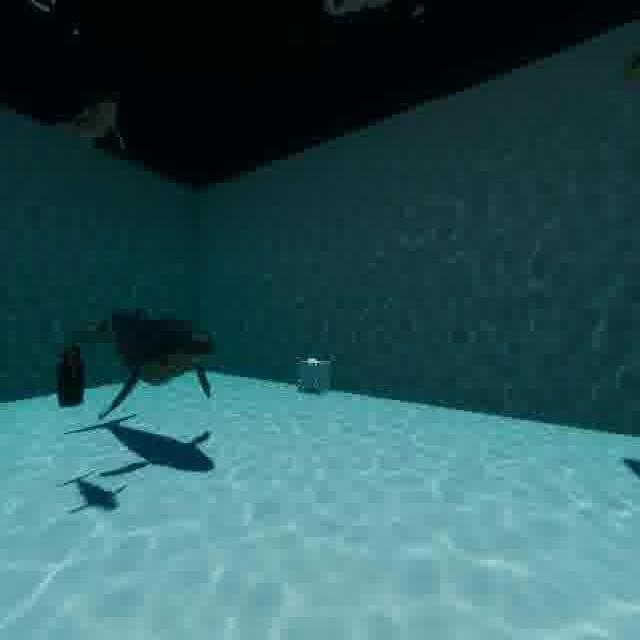Cylinder: (55, 336, 88, 413)
Docking Station: (281, 330, 349, 410)
Whale: (77, 289, 231, 429), (44, 80, 134, 162)
